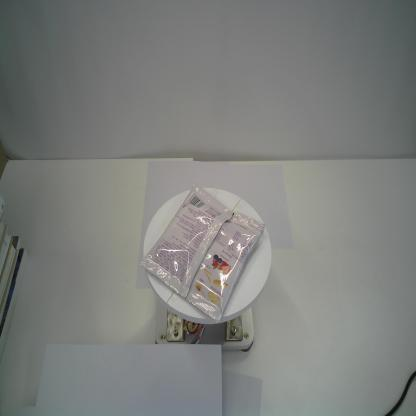Instant Drink: (138, 182, 265, 324)
